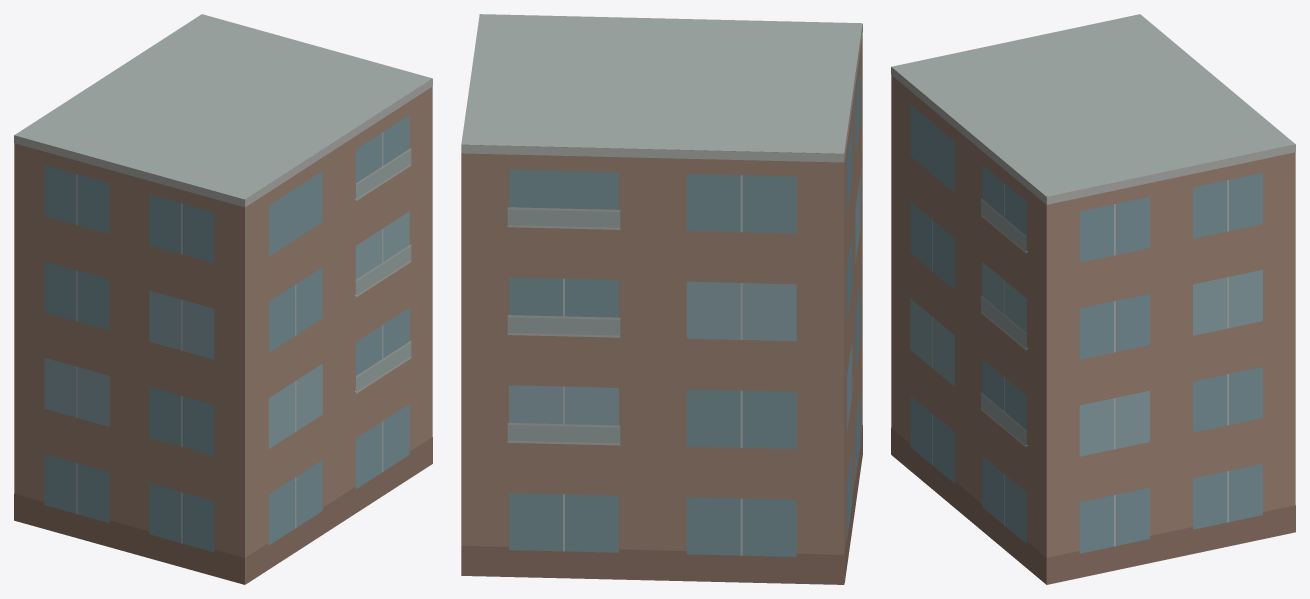
Rendered from survey-upis-32658035.glb.
The picture shows the model from 3 angles, left to right: view 1: azimuth 30°, elevation 25°; view 2: azimuth 150°, elevation 25°; view 3: azimuth 270°, elevation 25°; orthographic projection. The views are drawn at different scales.
Visible parts, largest first — view 1: survey-upis-32658035.tmp; view 2: survey-upis-32658035.tmp; view 3: survey-upis-32658035.tmp.
Boxes of the visible parts, x1,y1,x2,y2 form: survey-upis-32658035.tmp: (14, 14, 432, 584); survey-upis-32658035.tmp: (461, 14, 862, 584); survey-upis-32658035.tmp: (891, 14, 1295, 584).
Size of the model in its own units: 12.04 by 11.9 by 11.26.
